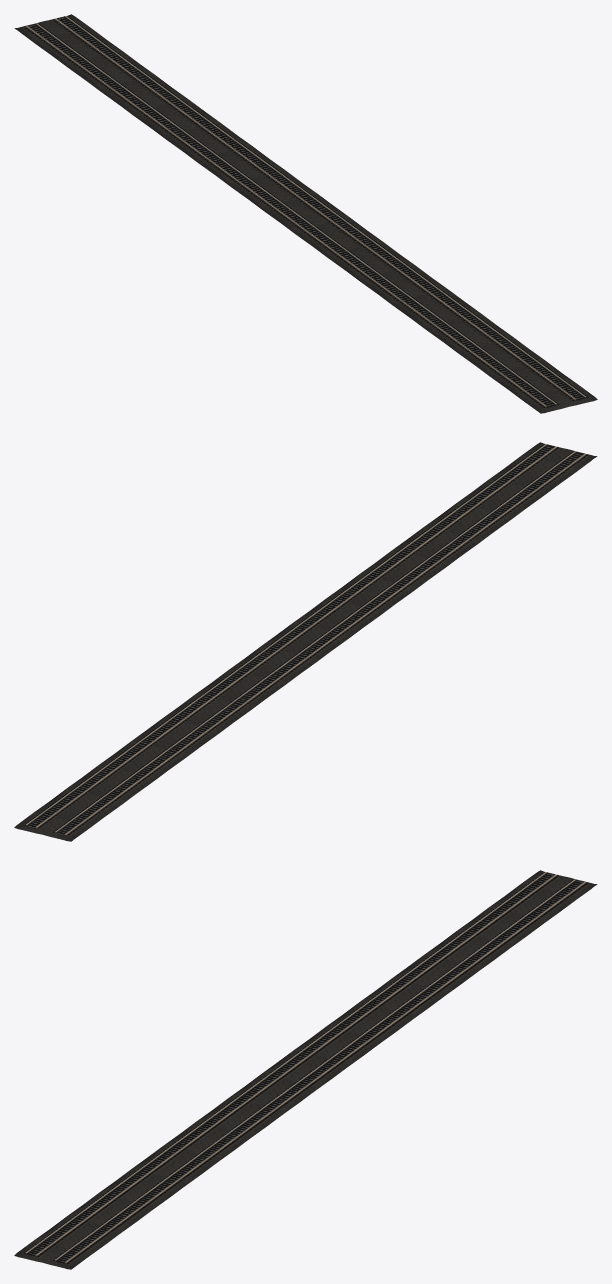
File: KH_RAIL00_400.glb
3 views of the same model, one above another, from view 1: azimuth 30°, elevation 25°; view 2: azimuth 150°, elevation 25°; view 3: azimuth 330°, elevation 25° (orthographic).
Visible parts, largest first — view 1: Jari_All, R000_RG_R, R000_RG_L; view 2: Jari_All, R000_RG_R, R000_RG_L; view 3: Jari_All, R000_RG_L, R000_RG_R.
Boxes of the visible parts, <box> form: Jari_All: <box>14,14,597,413</box>; R000_RG_R: <box>26,18,576,406</box>; R000_RG_L: <box>35,16,584,404</box>; Jari_All: <box>14,442,597,841</box>; R000_RG_R: <box>35,446,585,834</box>; R000_RG_L: <box>26,444,576,832</box>; Jari_All: <box>14,870,597,1269</box>; R000_RG_L: <box>35,874,585,1262</box>; R000_RG_R: <box>27,872,576,1260</box>.
Bounding box in the file's own units: 25.52 × 2.22 × 405.
6 materials, 5 textured.
